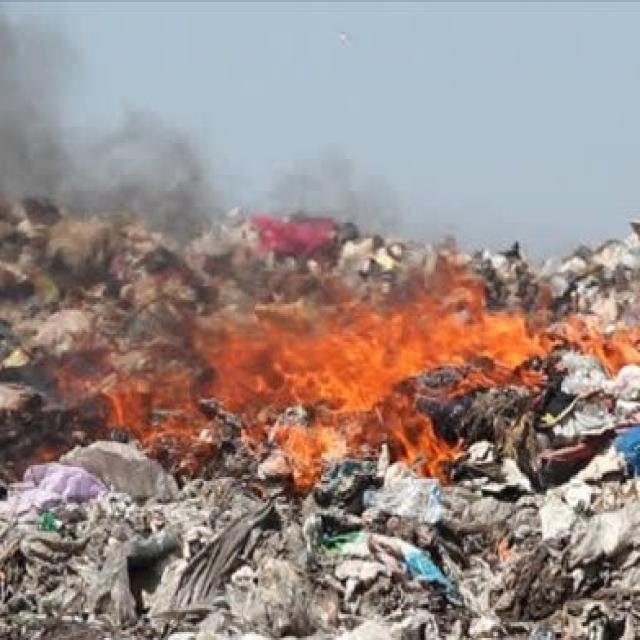Fire: (97, 308, 604, 489)
